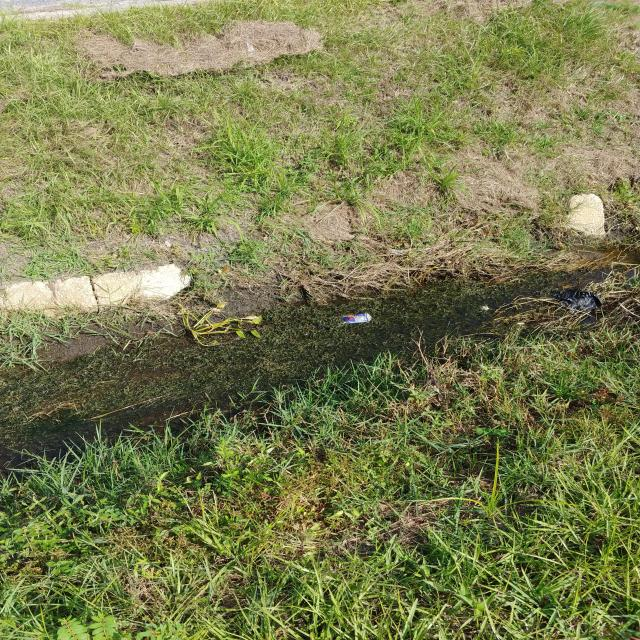litter: (341, 313, 372, 325)
